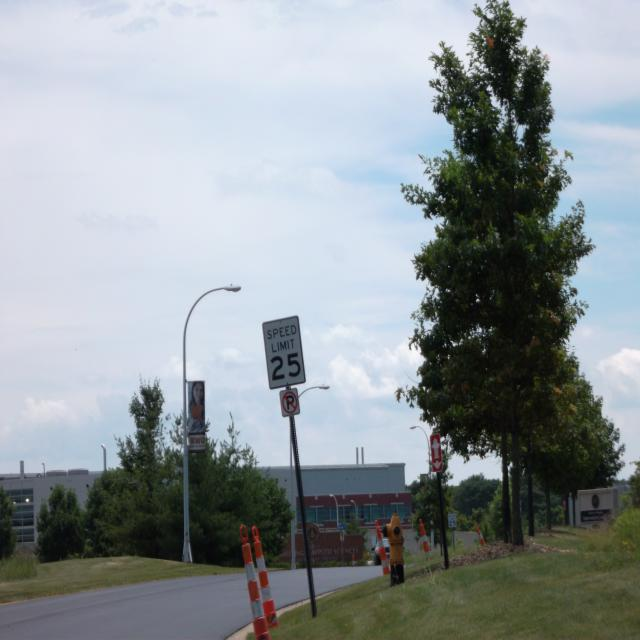regulatory: (261, 313, 308, 393), (277, 386, 302, 419), (448, 513, 457, 528)
